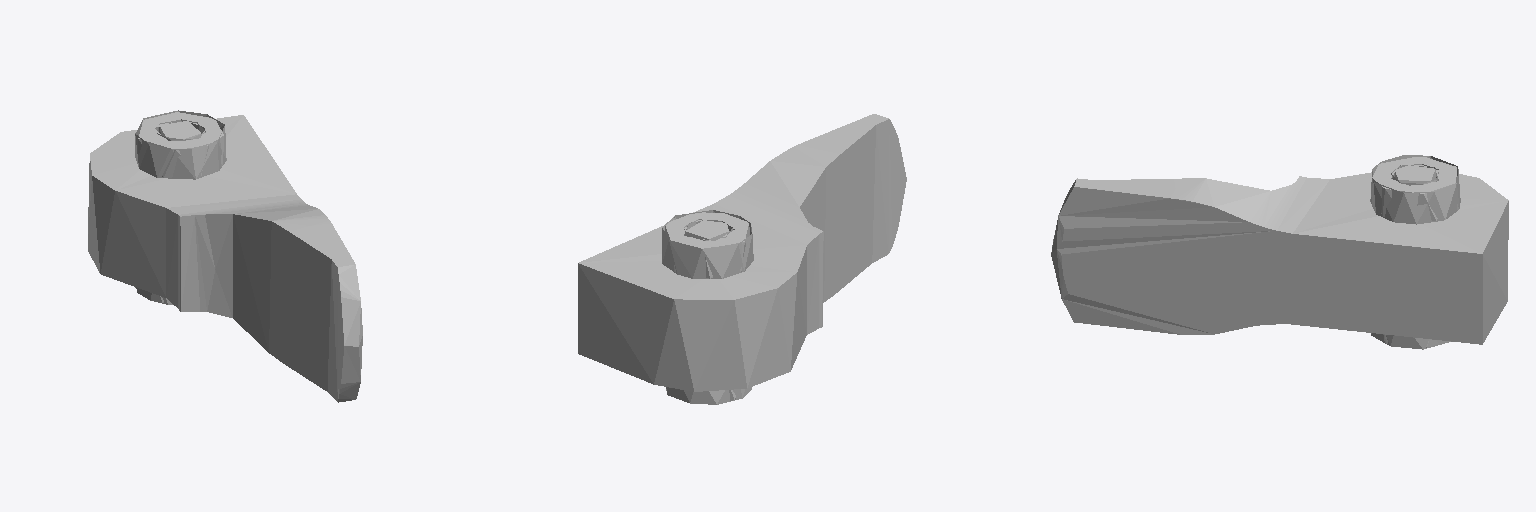
File: right_visual_thumb_dp_mesh_mesh.obj
3 views of the same model, side by side, from view 1: azimuth 30°, elevation 25°; view 2: azimuth 150°, elevation 25°; view 3: azimuth 270°, elevation 25° (orthographic).
Size of the model in its own units: 0.0179 by 0.015 by 0.0398.